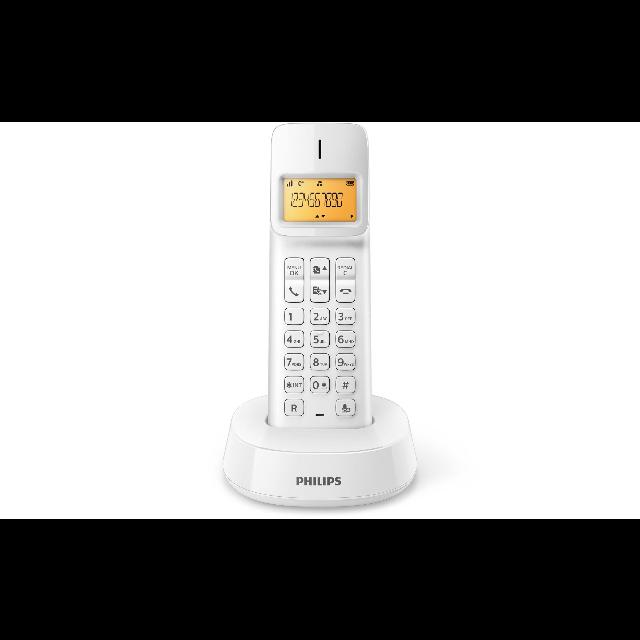Telephone-Set: (232, 124, 426, 462)
